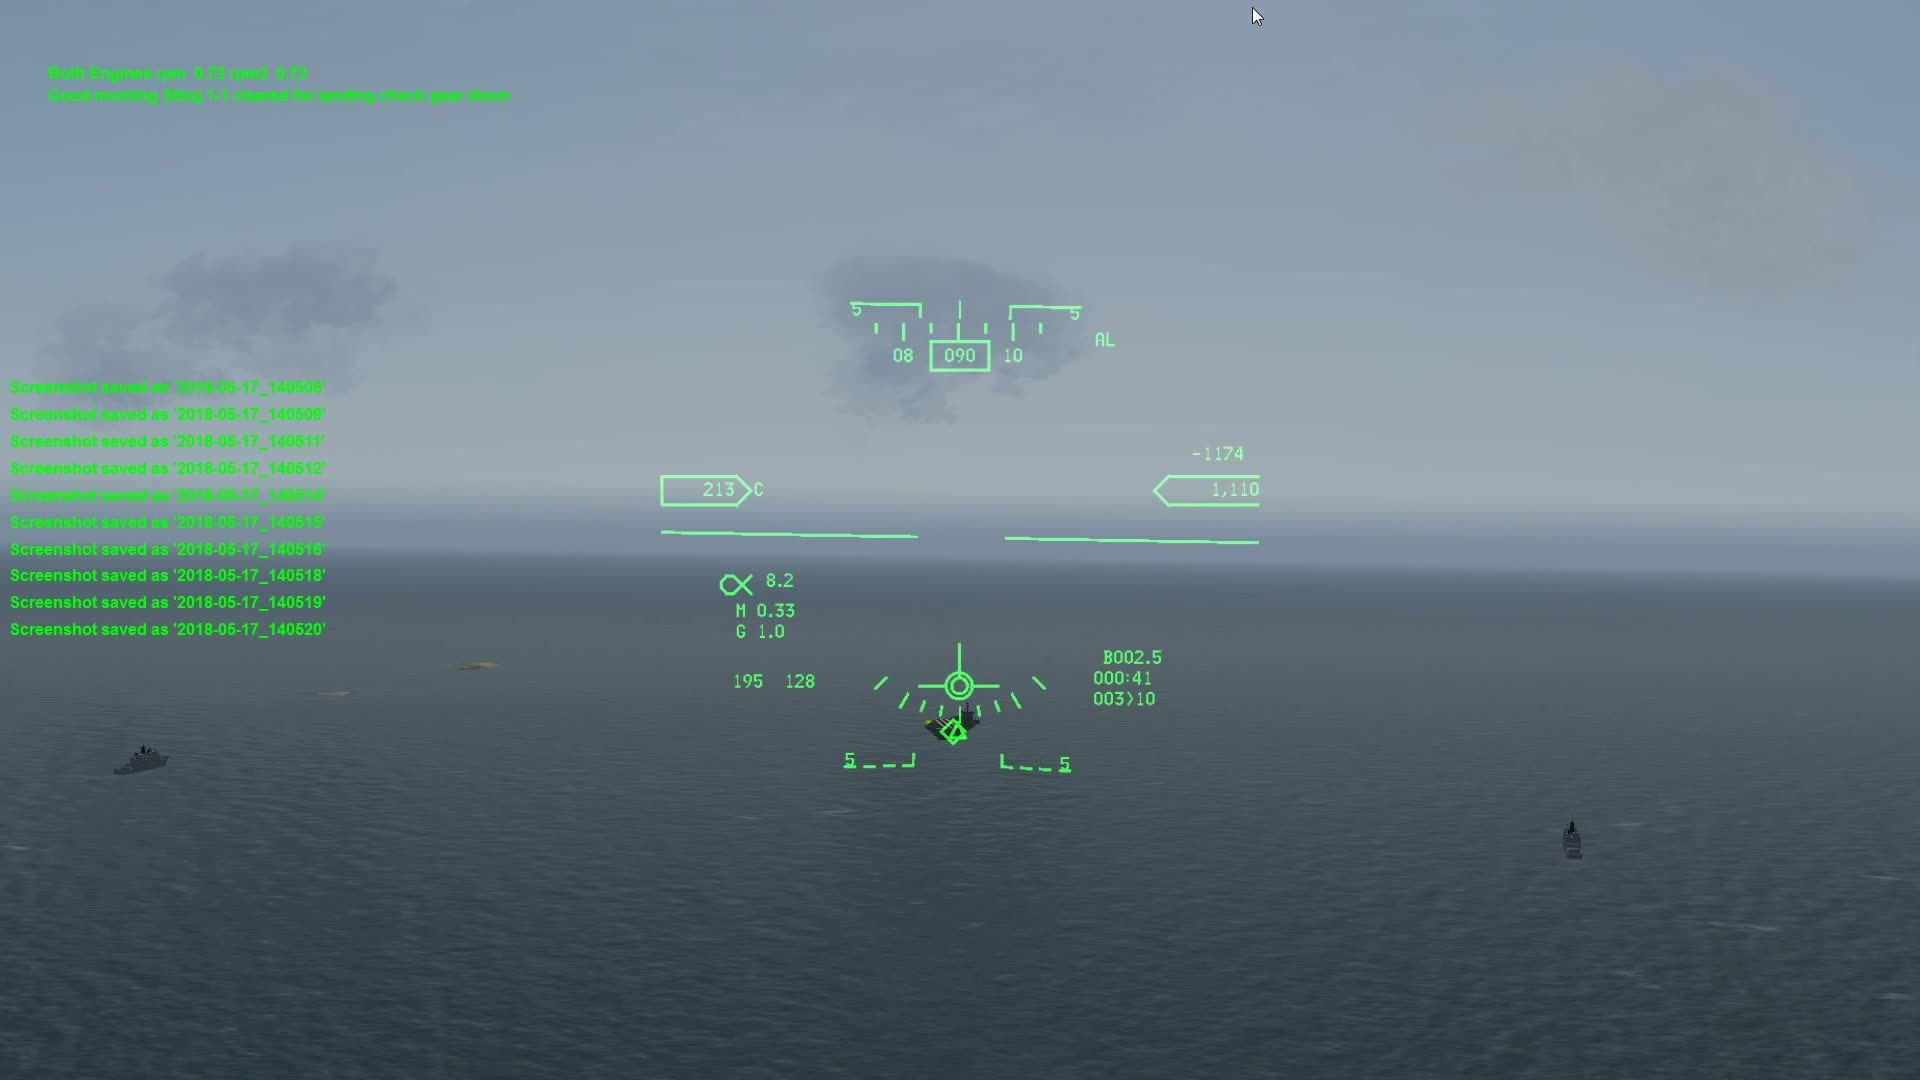speed vector: (920, 653, 996, 703)
